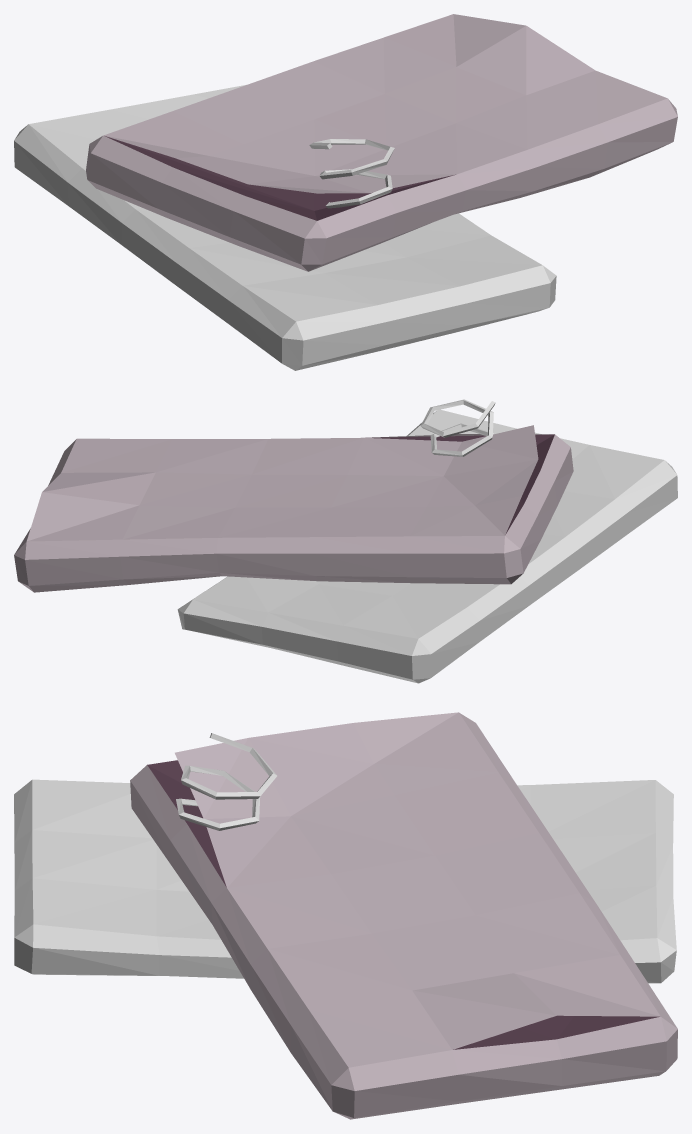
The model's file is Matresses.fbx.
3 views of the same model, one above another, from view 1: azimuth 30°, elevation 25°; view 2: azimuth 150°, elevation 25°; view 3: azimuth 270°, elevation 25° (orthographic). The views are drawn at different scales.
Parts seen in each view (by area): view 1: Matress, Matress_2, Spring; view 2: Matress, Matress_2, Spring; view 3: Matress, Matress_2, Spring.
Part boxes in pixels (box(x1,y1,x2,y2)): Matress: box(86, 14, 677, 271); Matress_2: box(14, 84, 556, 370); Spring: box(309, 139, 394, 208); Matress: box(14, 425, 573, 592); Matress_2: box(177, 409, 677, 683); Spring: box(420, 399, 495, 456); Matress: box(130, 712, 677, 1119); Matress_2: box(14, 779, 676, 983); Spring: box(176, 733, 276, 830).
Size of the model in its own units: 200 by 50.74 by 181.
